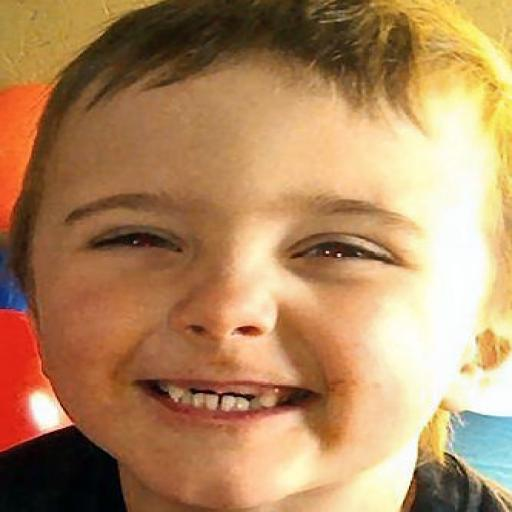Autism: (24, 11, 512, 512)
